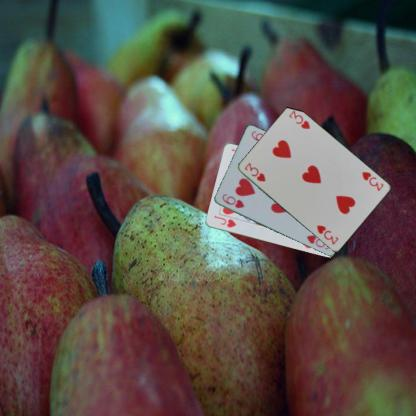3h: (359, 169, 385, 192), (242, 160, 266, 183)
6h: (219, 191, 245, 210)
Jh: (211, 212, 237, 228)
